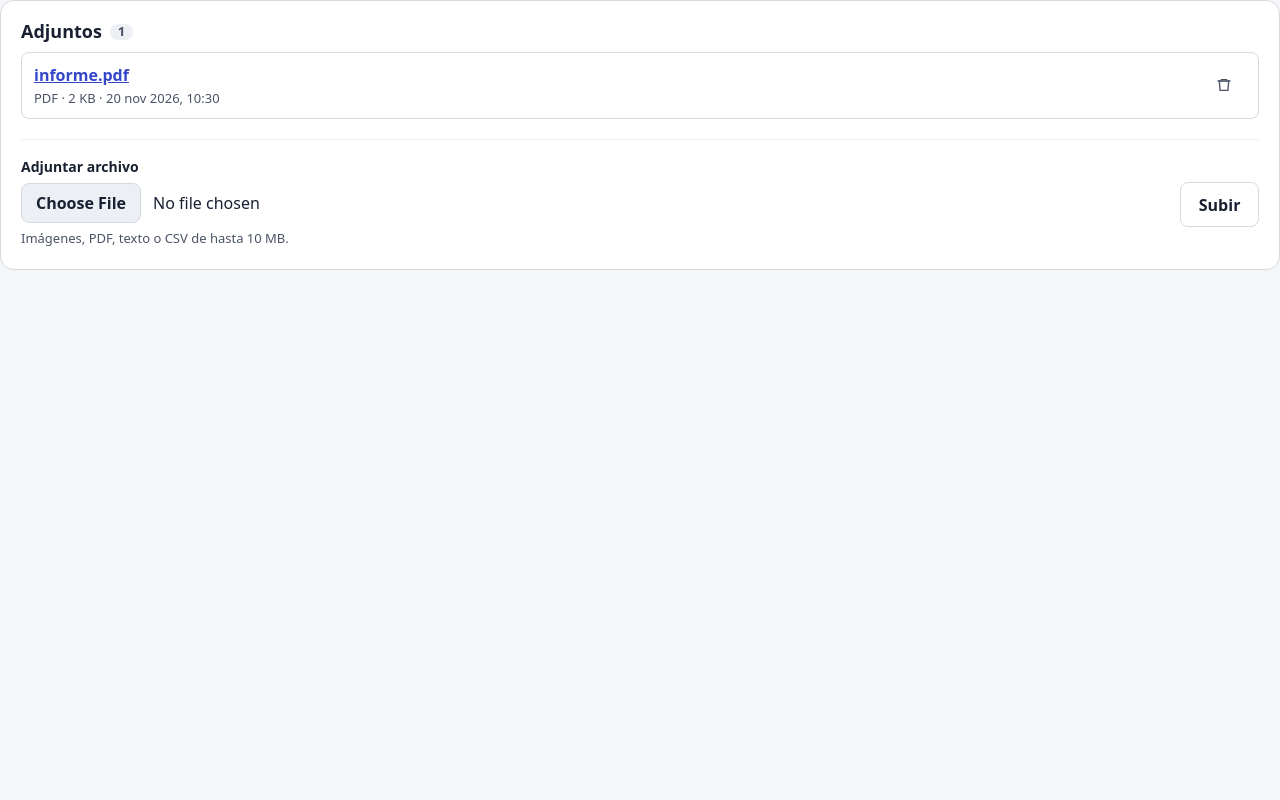
Scenario: Adjuntos › borra tras confirmar y lleva el foco al título de la sección
The width and height of the screenshot is (1280, 800).
Click the button named "Borrar «informe.pdf»" at (1224, 85), box top-left (1202, 63), bottom-right (1246, 107)
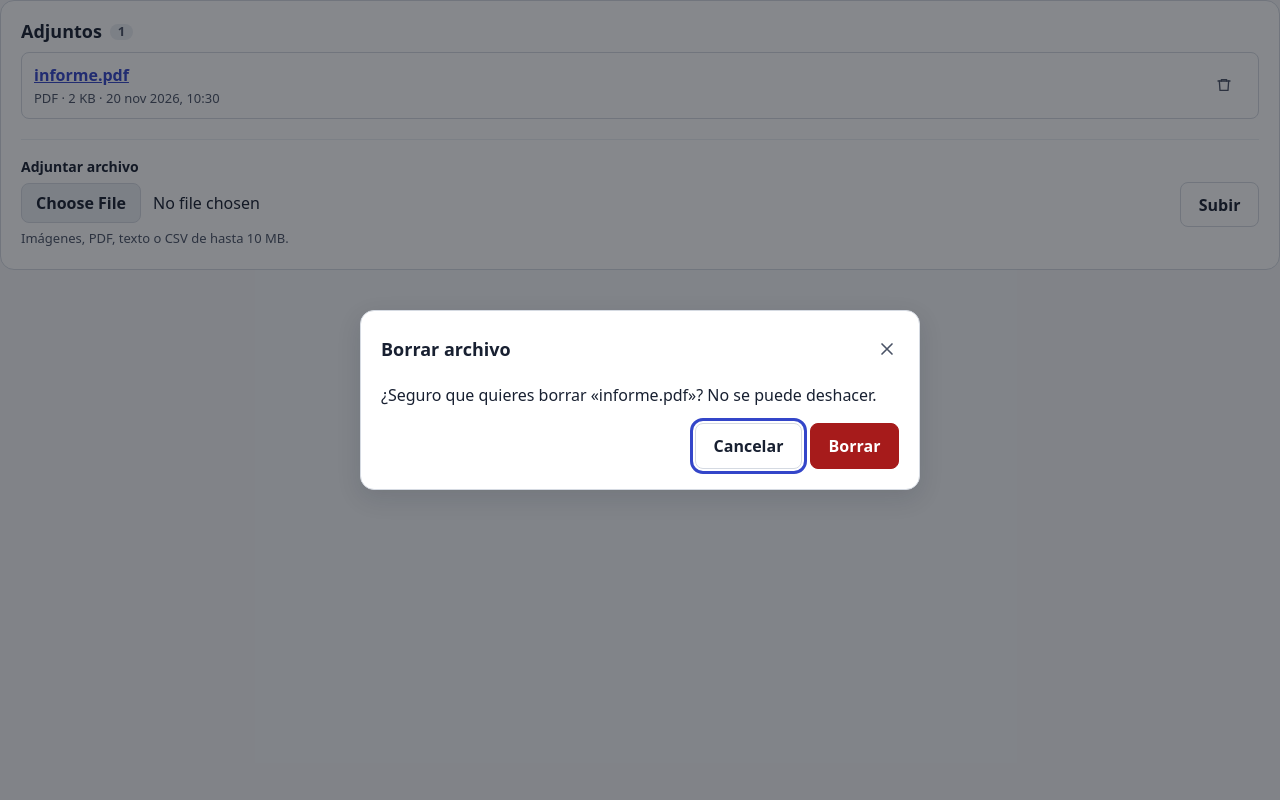
Click the button "Borrar" at (854, 446), box top-left (810, 423), bottom-right (899, 469)
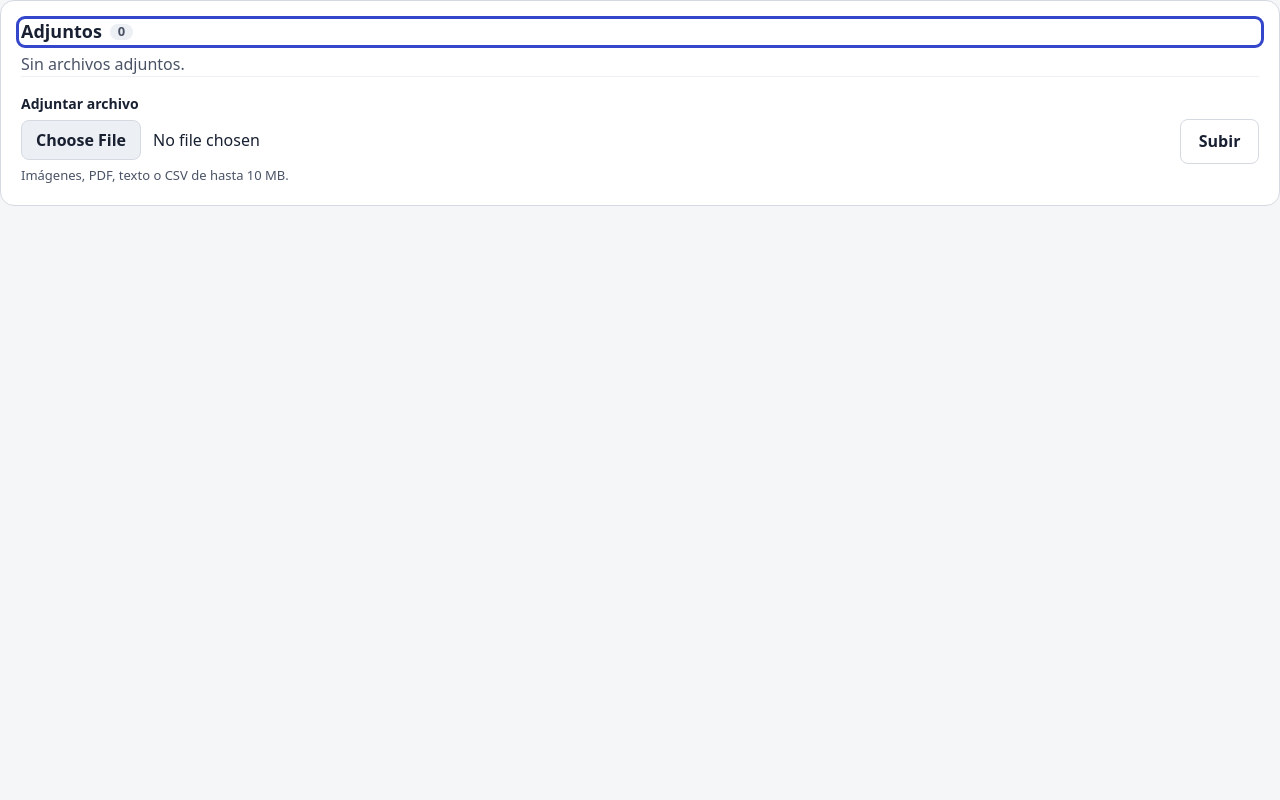
Now the link "informe.pdf" is gone
